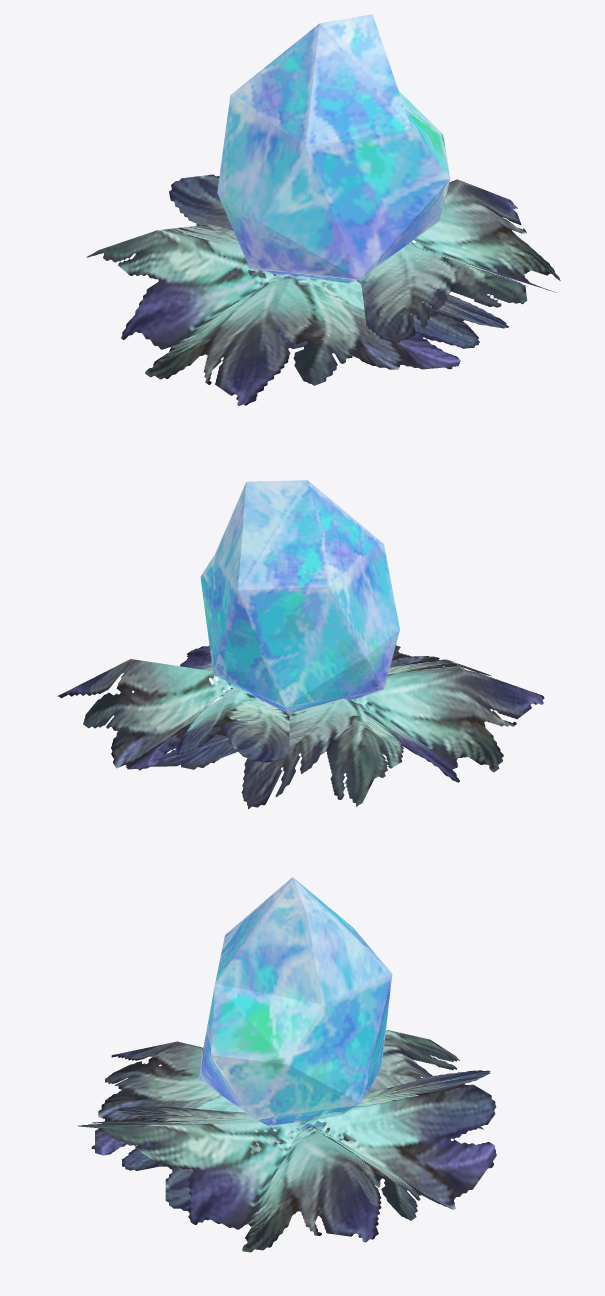
3 renders of one model, top to bottom at view 1: azimuth 30°, elevation 25°; view 2: azimuth 150°, elevation 25°; view 3: azimuth 270°, elevation 25°, orthographic. The views are drawn at different scales.
Parts seen in each view (by area): view 1: Rectangle002, light_s_02; view 2: Rectangle002, light_s_02; view 3: Rectangle002, light_s_02.
Boxes of the visible parts, box(x1,y1,x2,y2) form: Rectangle002: box(86, 174, 560, 405); light_s_02: box(217, 14, 450, 283); Rectangle002: box(57, 645, 544, 808); light_s_02: box(200, 480, 399, 713); Rectangle002: box(77, 1030, 496, 1252); light_s_02: box(198, 877, 392, 1133).
Bounding box in the file's own units: 0.0567 × 0.0341 × 0.0632.
Materials: 2 (2 with a texture image).
